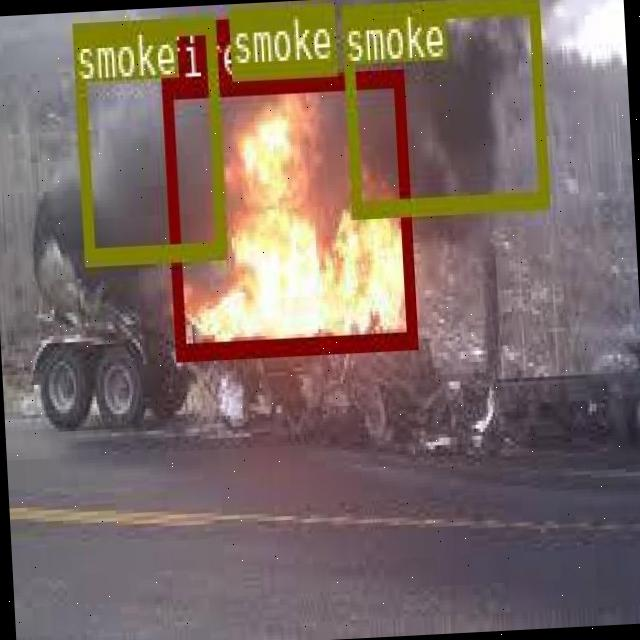fire: (160, 68, 414, 356)
smoke: (340, 0, 547, 214), (72, 13, 224, 262), (228, 1, 334, 75)
